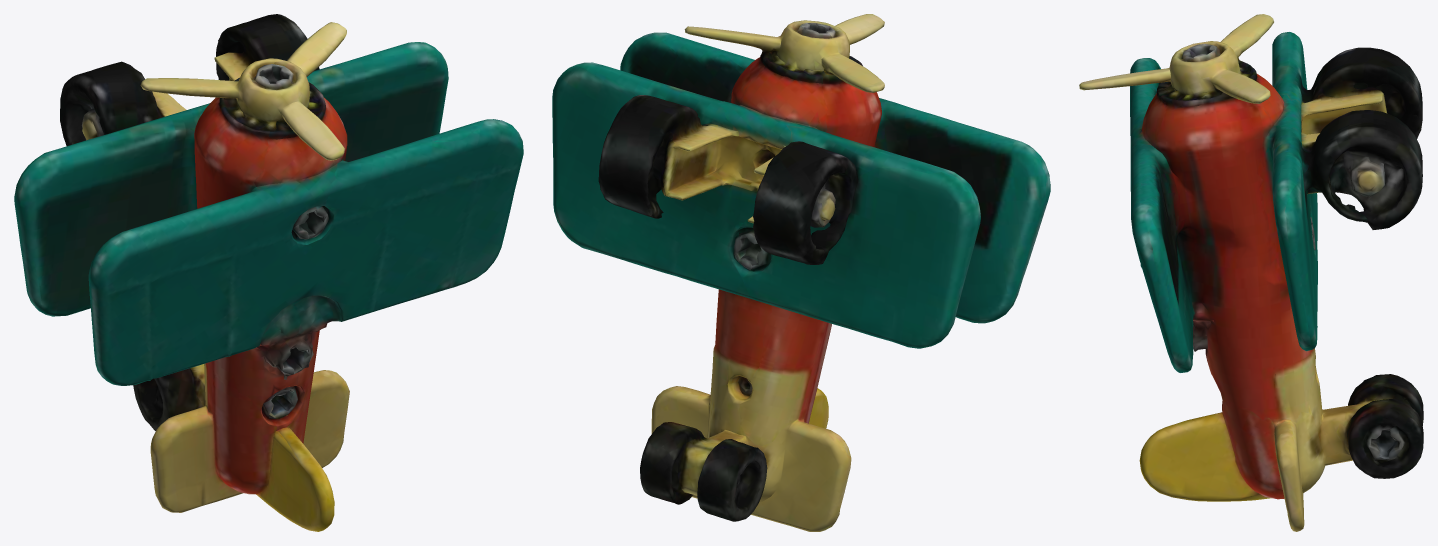
Rendered from ddg-ycb_072-a_toy_airplane.glb.
3 views of the same model, side by side, from view 1: azimuth 30°, elevation 25°; view 2: azimuth 150°, elevation 25°; view 3: azimuth 270°, elevation 25° (orthographic). The views are drawn at different scales.
Visible parts, largest first — view 1: textured(Clone); view 2: textured(Clone); view 3: textured(Clone).
Boxes of the visible parts, x1,y1,x2,y2 form: textured(Clone): (14,14,523,531); textured(Clone): (552,14,1050,531); textured(Clone): (1079,14,1423,531).
Size of the model in its own units: 1.59 by 1.64 by 1.15.
Materials: 1 (1 with a texture image).
